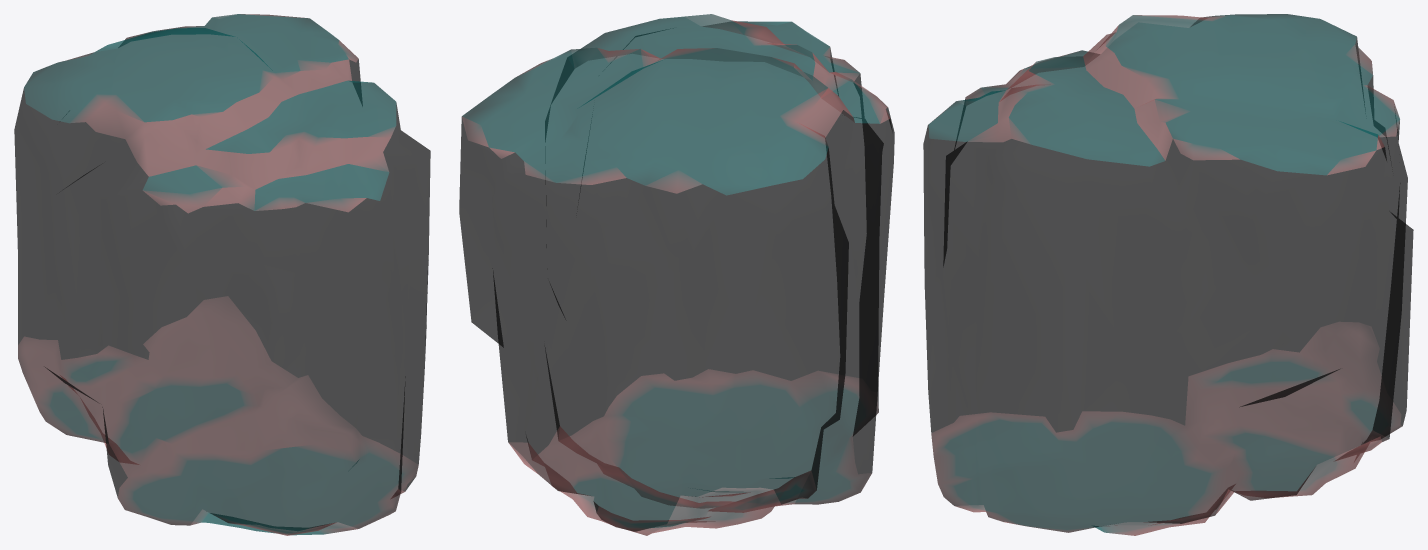
Rendered from SM_Cliff_Small_01_Complex_Collision.fbx.
3 renders of one model, left to right at view 1: azimuth 30°, elevation 25°; view 2: azimuth 150°, elevation 25°; view 3: azimuth 270°, elevation 25°, orthographic. The views are drawn at different scales.
Visible parts, largest first — view 1: SM_Cliff_Small_01_Complex_Collision; view 2: SM_Cliff_Small_01_Complex_Collision; view 3: SM_Cliff_Small_01_Complex_Collision.
Boxes of the visible parts, x1=… form: SM_Cliff_Small_01_Complex_Collision: x1=14, y1=14, x2=430, y2=535; SM_Cliff_Small_01_Complex_Collision: x1=459, y1=14, x2=894, y2=535; SM_Cliff_Small_01_Complex_Collision: x1=923, y1=14, x2=1413, y2=535.
Bounding box in the file's own units: 673 × 842 × 854.
